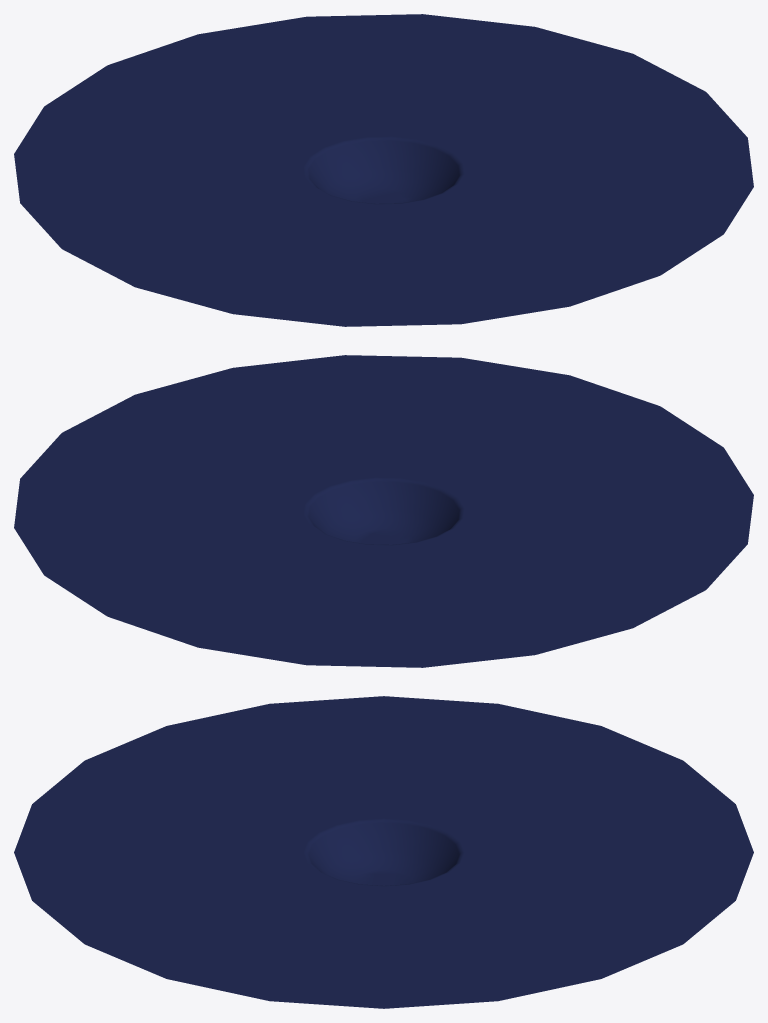
Rendered from background_0.fbx.
The picture shows the model from 3 angles, top to bottom: view 1: azimuth 30°, elevation 25°; view 2: azimuth 150°, elevation 25°; view 3: azimuth 270°, elevation 25°; orthographic projection.
Visible parts, largest first — view 1: background_0; view 2: background_0; view 3: background_0.
Boxes of the visible parts, x1,y1,x2,y2 form: background_0: [14, 14, 753, 326]; background_0: [14, 355, 753, 667]; background_0: [14, 696, 753, 1008].
Bounding box in the file's own units: 18.64 × 0.8209 × 18.64.
